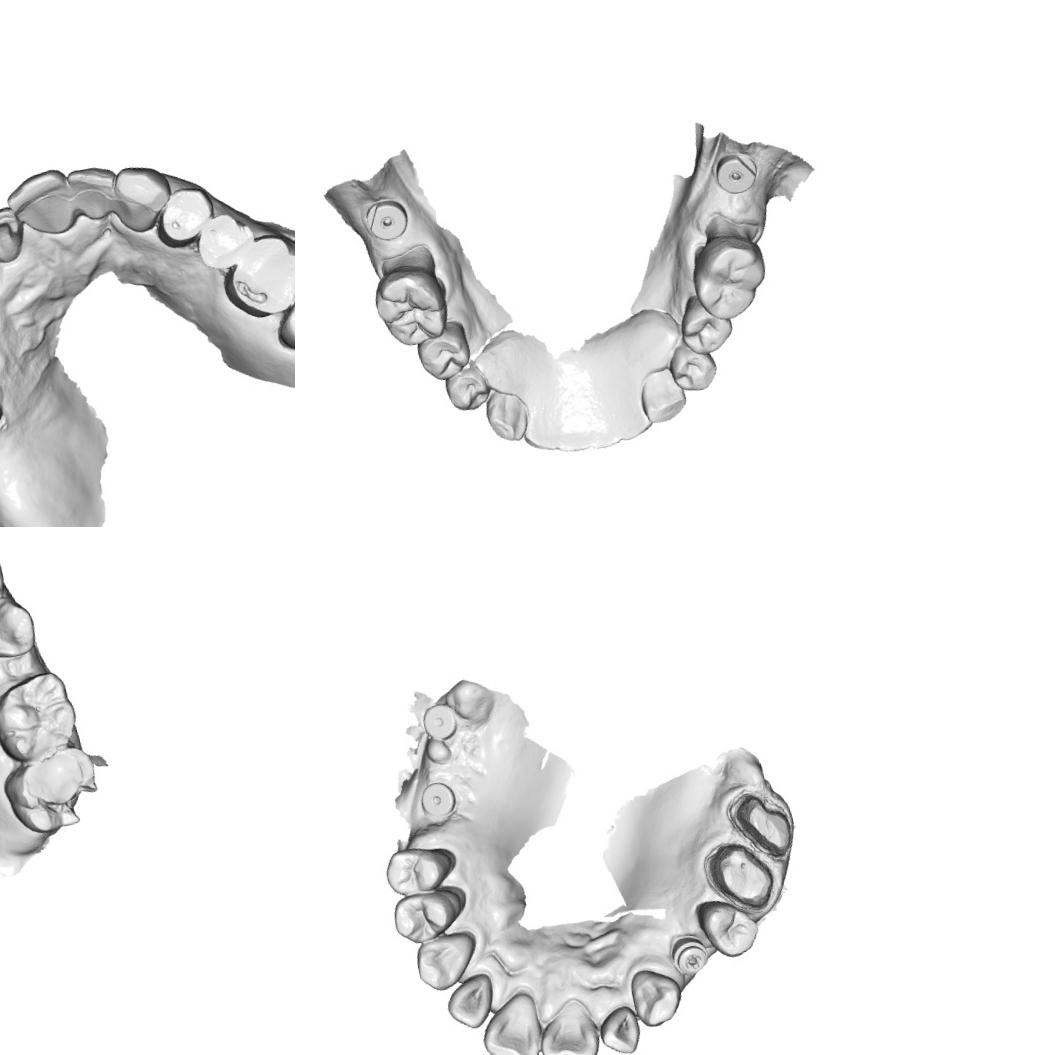canine: (408, 924, 488, 995), (622, 958, 688, 1032), (109, 160, 173, 235), (635, 360, 692, 427), (479, 384, 534, 448)
crown: (698, 834, 780, 922), (722, 780, 798, 868)
implant: (707, 144, 764, 200), (358, 193, 414, 247), (416, 698, 464, 746), (412, 776, 460, 824)
implant_plus: (665, 929, 714, 981)
incisor: (2, 161, 76, 244), (473, 988, 555, 1055), (527, 988, 607, 1055), (436, 966, 504, 1036), (64, 159, 128, 232), (590, 995, 651, 1055), (0, 204, 26, 267)
molar: (0, 743, 109, 842), (0, 664, 86, 781), (682, 227, 774, 327), (367, 259, 456, 353), (216, 225, 295, 327), (266, 263, 295, 362)
premolar: (386, 881, 470, 948), (690, 888, 764, 964), (377, 837, 462, 902), (188, 204, 262, 272), (410, 315, 476, 386), (150, 183, 218, 250), (674, 295, 738, 359), (662, 336, 726, 398), (0, 587, 44, 669), (436, 357, 494, 417)
